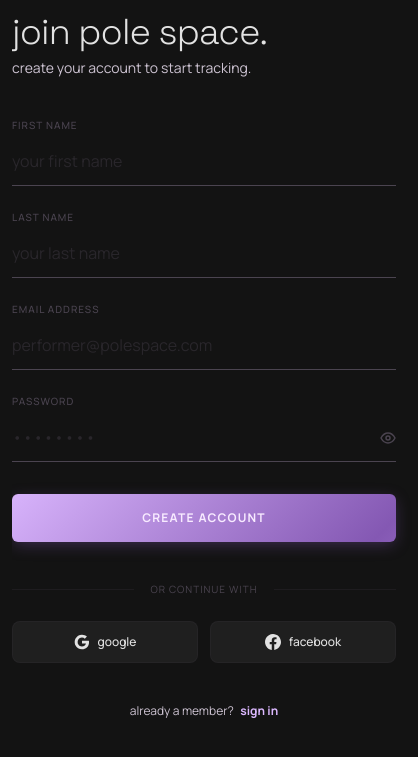
Test: SignupForm › shows validation error for missing firstName on submit
Type "Smith" into the field labelled "last name".
click(204, 254); type("Smith")  # box [12,229,396,278]
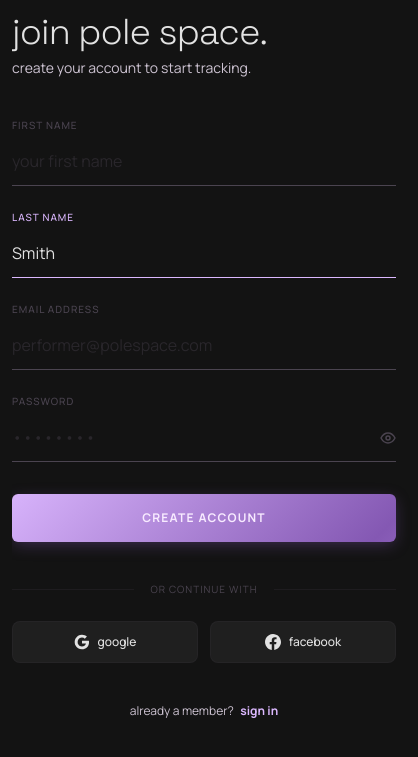
Type "a@b.com" into the field labelled "email address".
click(204, 346); type("a@b.com")  # box [12,321,396,370]
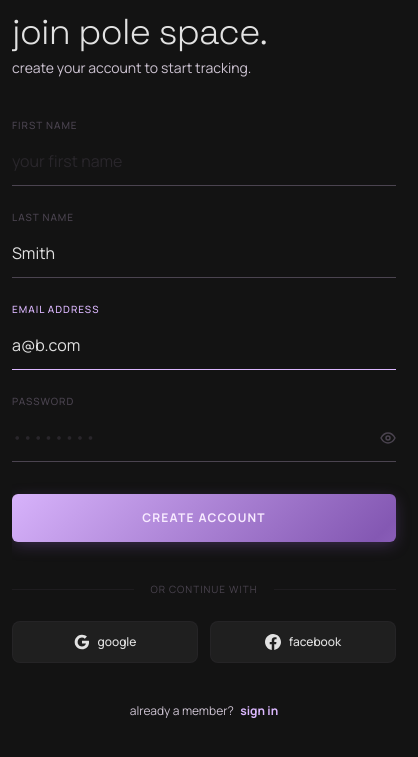
Type "Password1!" into the password field with placeholder "••••••••".
click(204, 438); type("Password1!")  # box [12,413,396,462]
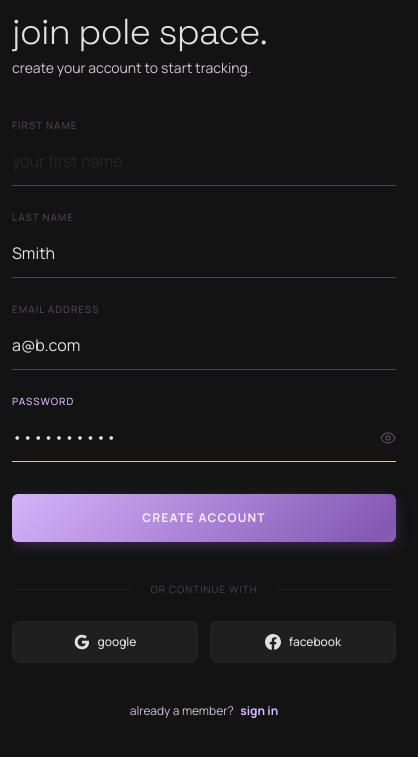
Click the button "create account".
click(204, 518)  # box [12,494,396,542]
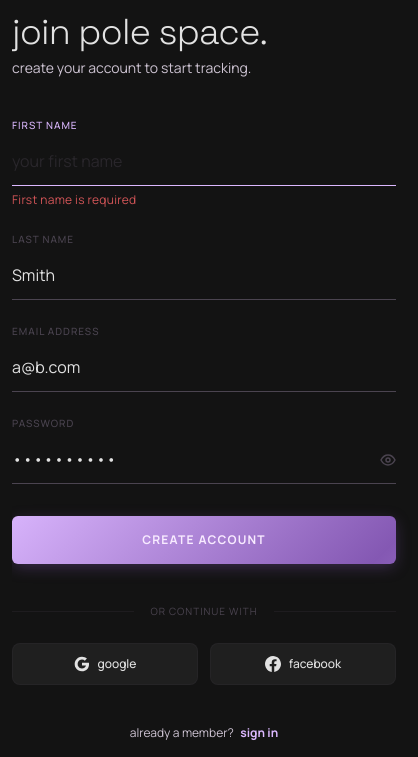
Expected: the text "First name is required" is shown, [12,191,136,208]
